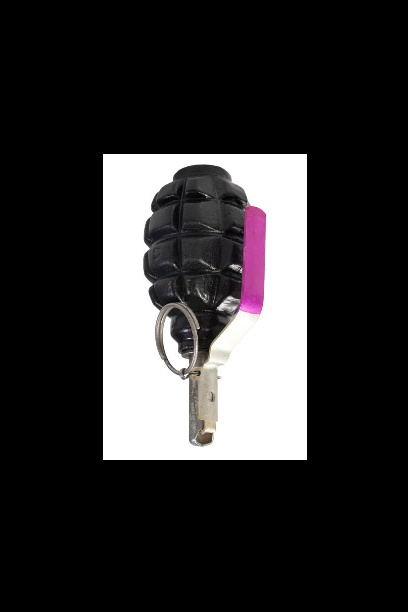e1: (138, 161, 266, 451)
